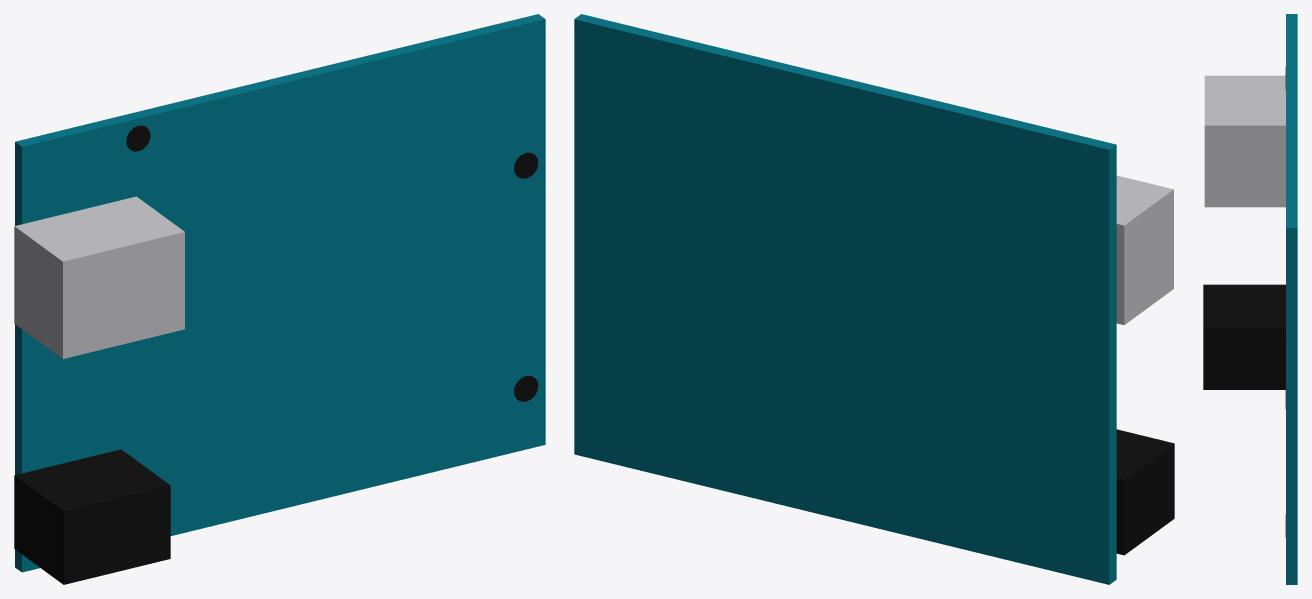
Rendered from mod-uno.glb.
The picture shows the model from 3 angles, left to right: view 1: azimuth 30°, elevation 25°; view 2: azimuth 150°, elevation 25°; view 3: azimuth 270°, elevation 25°; orthographic projection. The views are drawn at different scales.
Visible parts, largest first — view 1: PCB-ARDUINO, MET-PORT, PORT; view 2: PCB-ARDUINO, MET-PORT, PORT; view 3: MET-PORT, PORT, PCB-ARDUINO.
Part boxes in pixels (bbox=[...]): PCB-ARDUINO: bbox=[15, 14, 545, 572]; MET-PORT: bbox=[14, 196, 184, 358]; PORT: bbox=[14, 449, 170, 584]; PCB-ARDUINO: bbox=[574, 14, 1116, 584]; MET-PORT: bbox=[1116, 175, 1173, 325]; PORT: bbox=[1116, 429, 1174, 555]; MET-PORT: bbox=[1204, 75, 1285, 207]; PORT: bbox=[1203, 284, 1285, 389]; PCB-ARDUINO: bbox=[1286, 14, 1297, 584].
Size of the model in its own units: 69.6 by 53.3 by 12.8.
